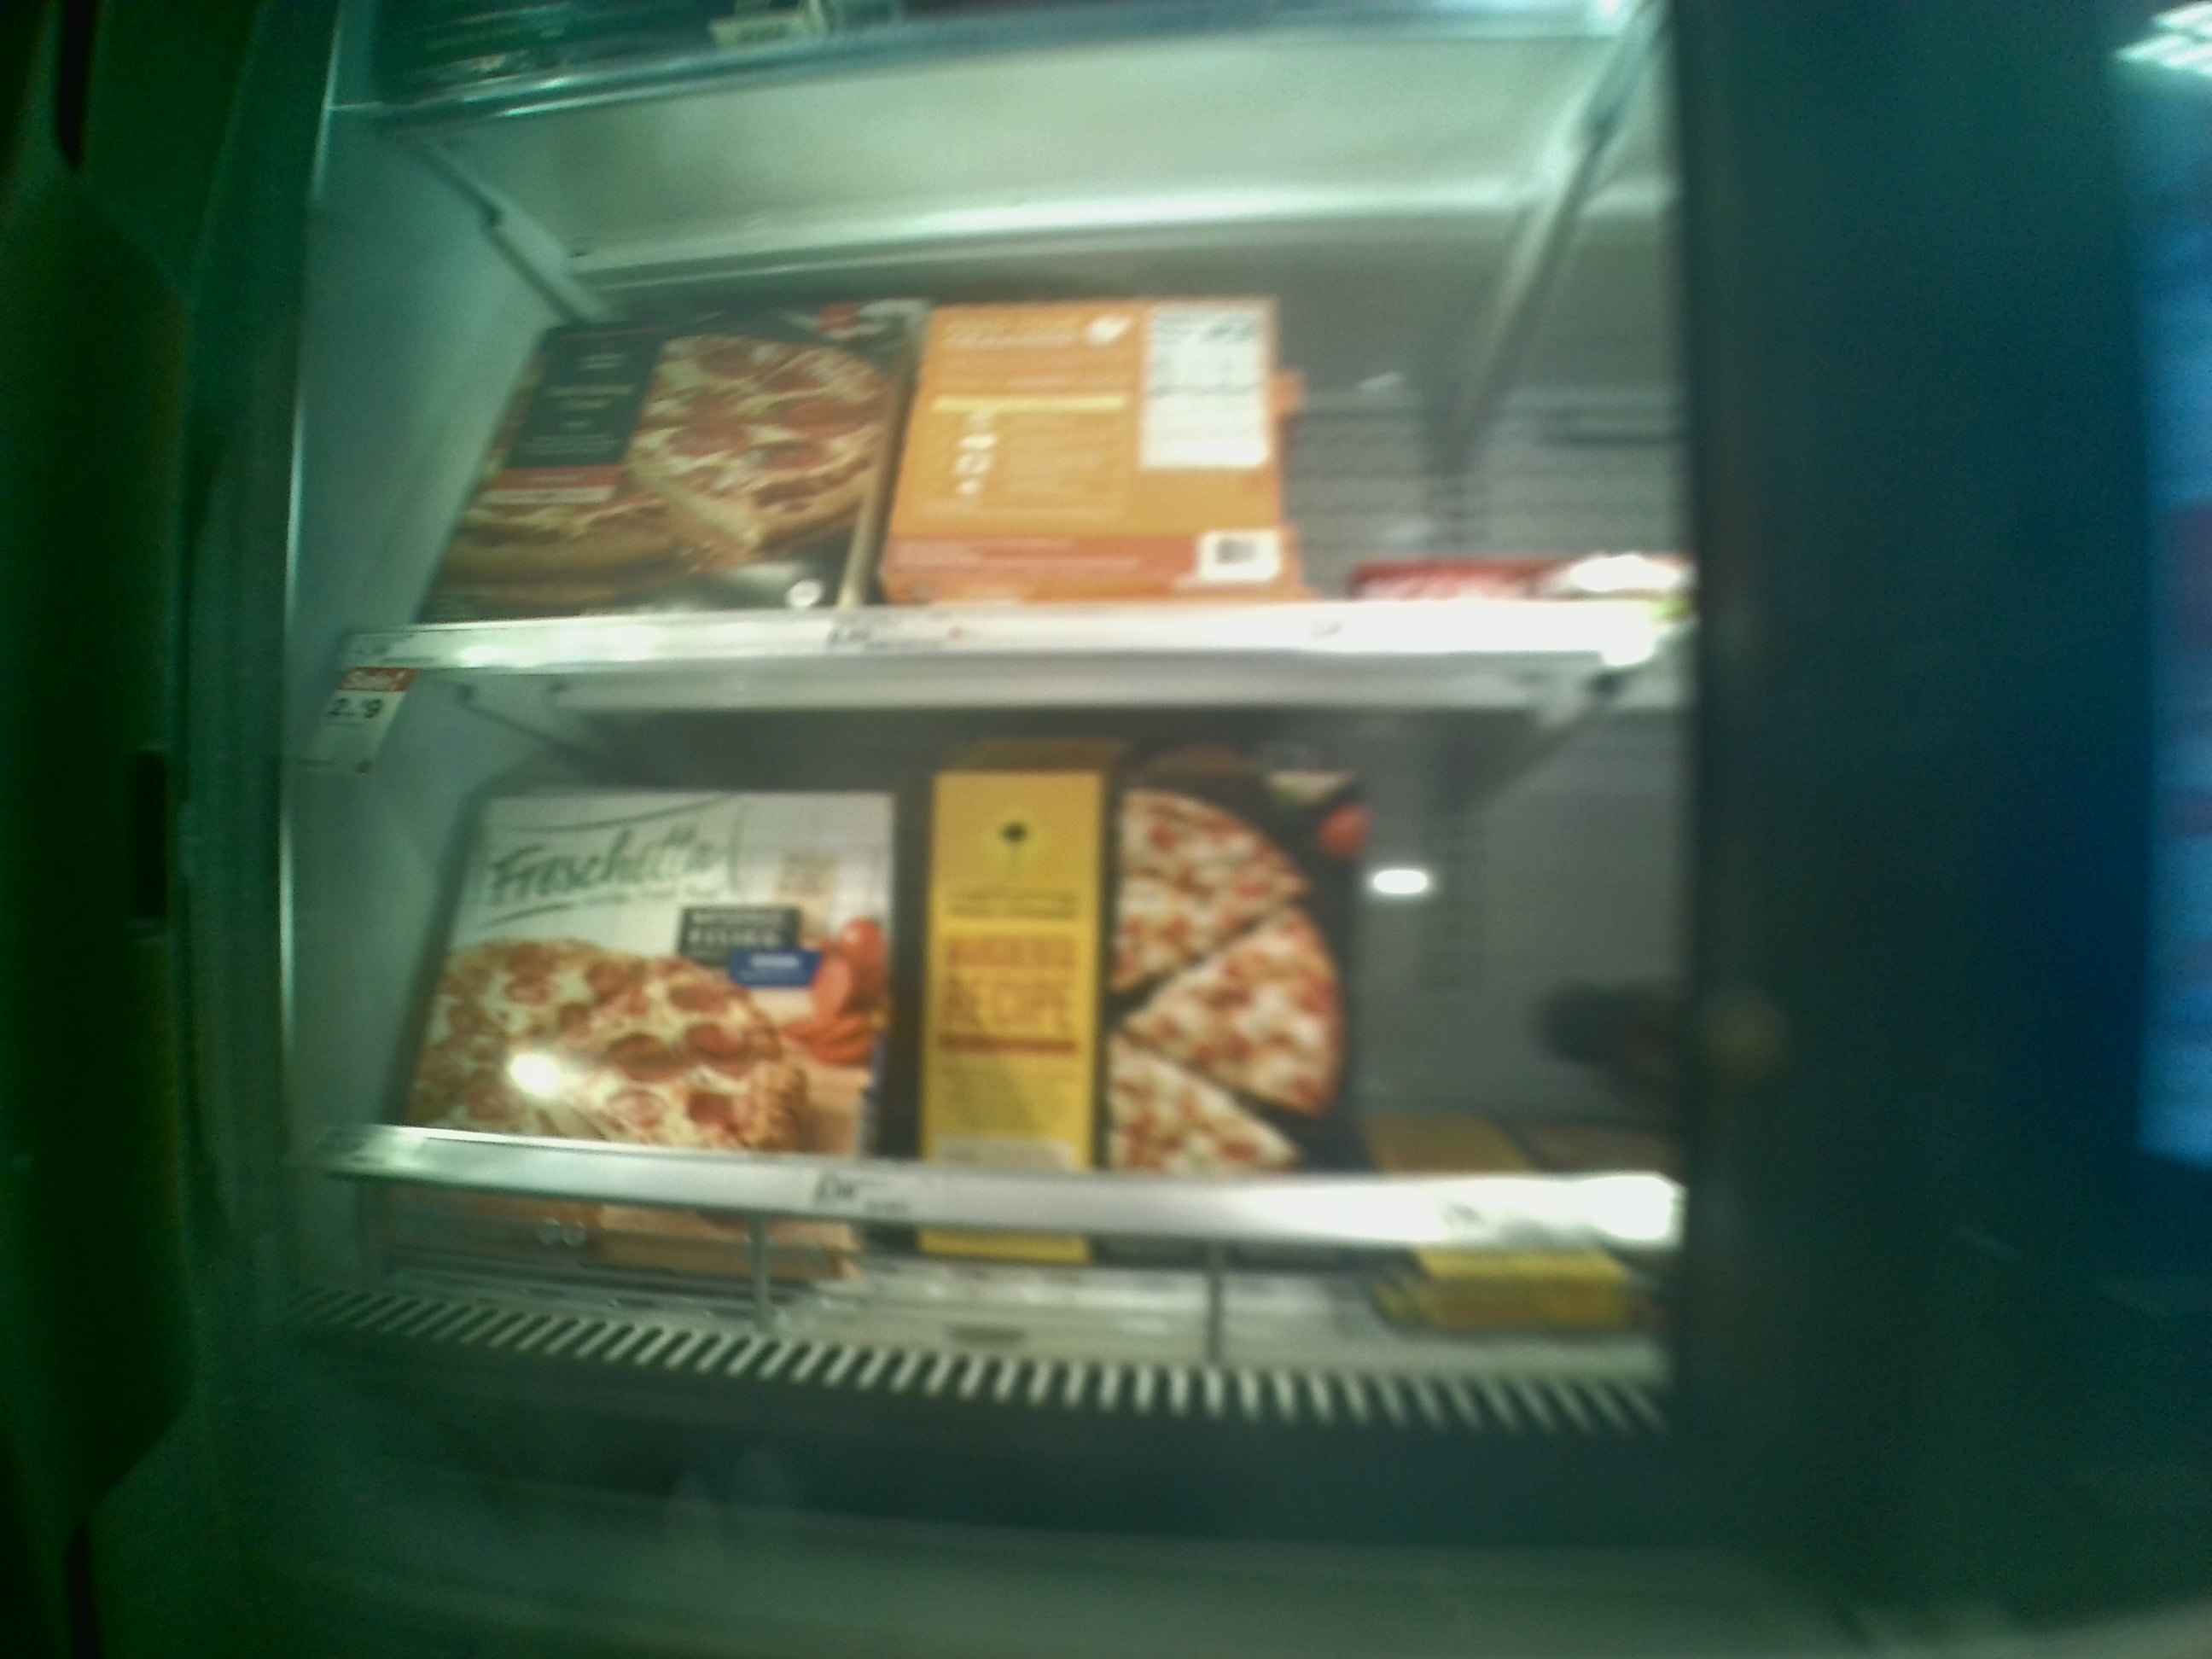shelf: (364, 638, 1695, 1258)
